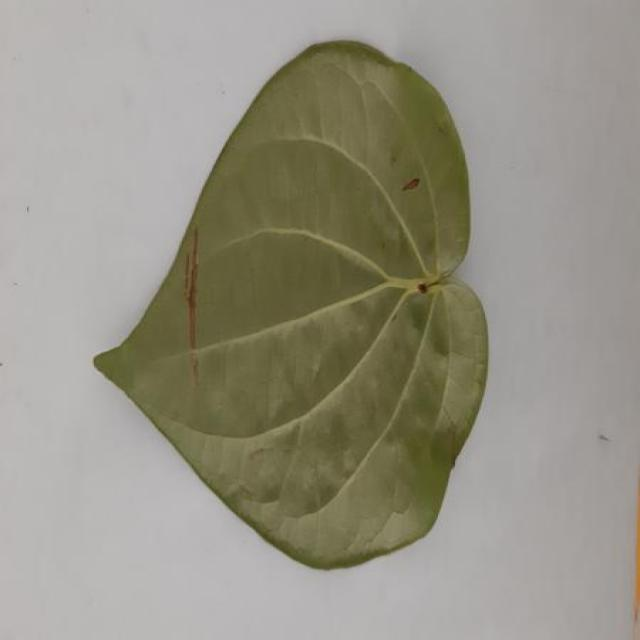defected betel: (95, 41, 487, 568)
